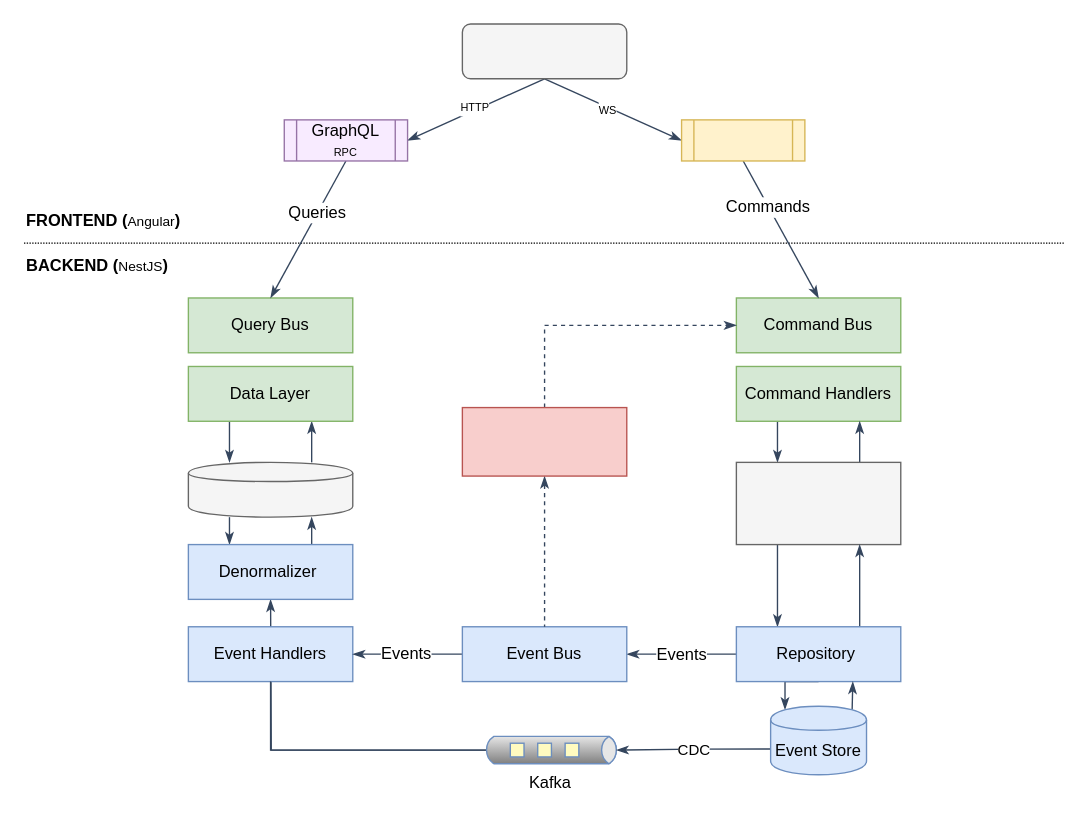
The diagram is 1091 pixels wide and 817 high, and some of its shapes have lost their labels. The box of each missing label's shape, as (x1, y1, x2, y2) in pixels:
Domain: (735, 461, 901, 545)
Elassandra: (187, 461, 353, 517)
NGXS WebSocket: (680, 119, 805, 161)
SAGAS: (461, 406, 627, 476)
User Interface: (461, 23, 627, 79)
